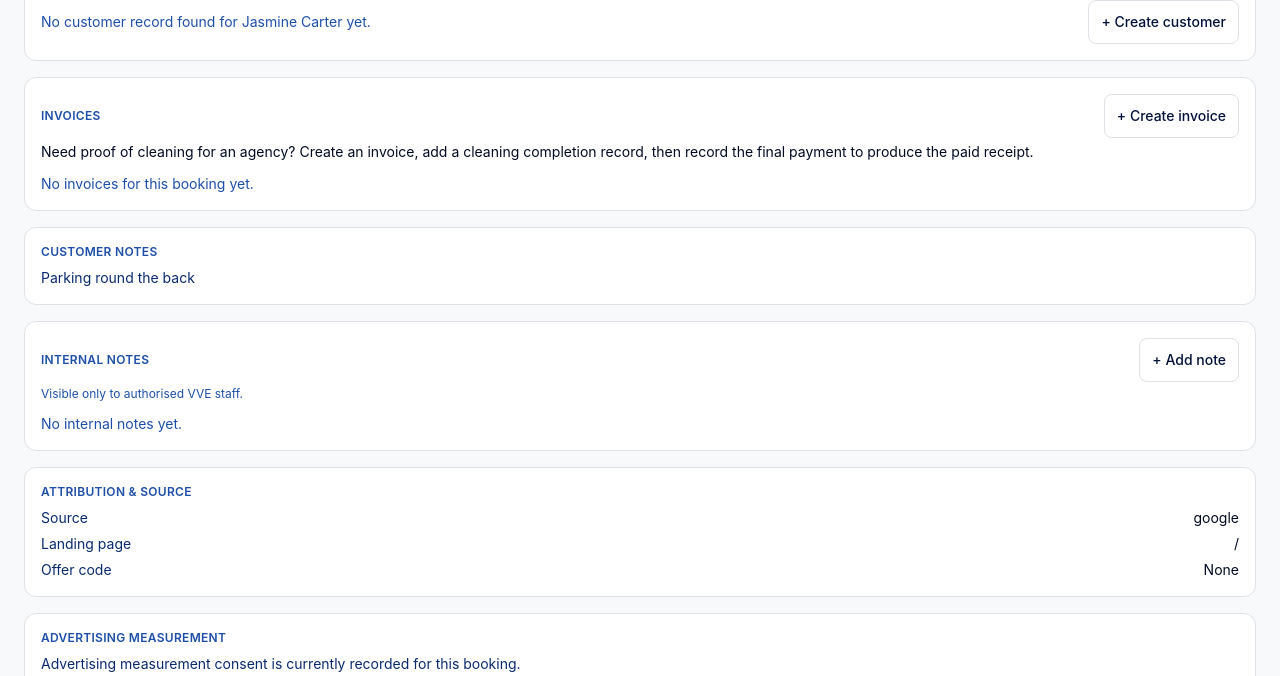
Test: BookingDetailPage › internal notes › adds a note through the modal and shows it in the list without a full reload
This screenshot has width=1280, height=676.
(page scrolled)
Expected: the text "No internal notes yet." is shown, [41,415,182,432]
Click the button "+ Add note" at x=1189, y=360, box [1139,338,1239,382]
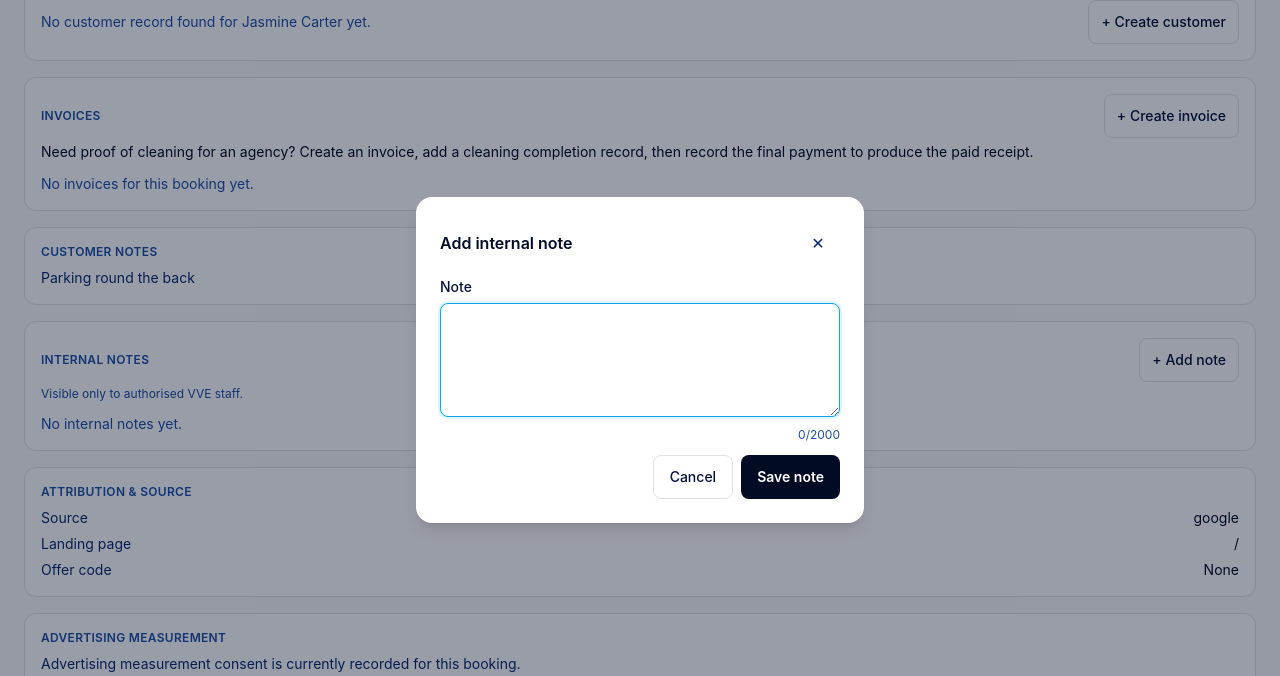
Type "Left a card, will call tomorrow." into the text box labelled "Note" at x=640, y=360, box [440,303,840,417]
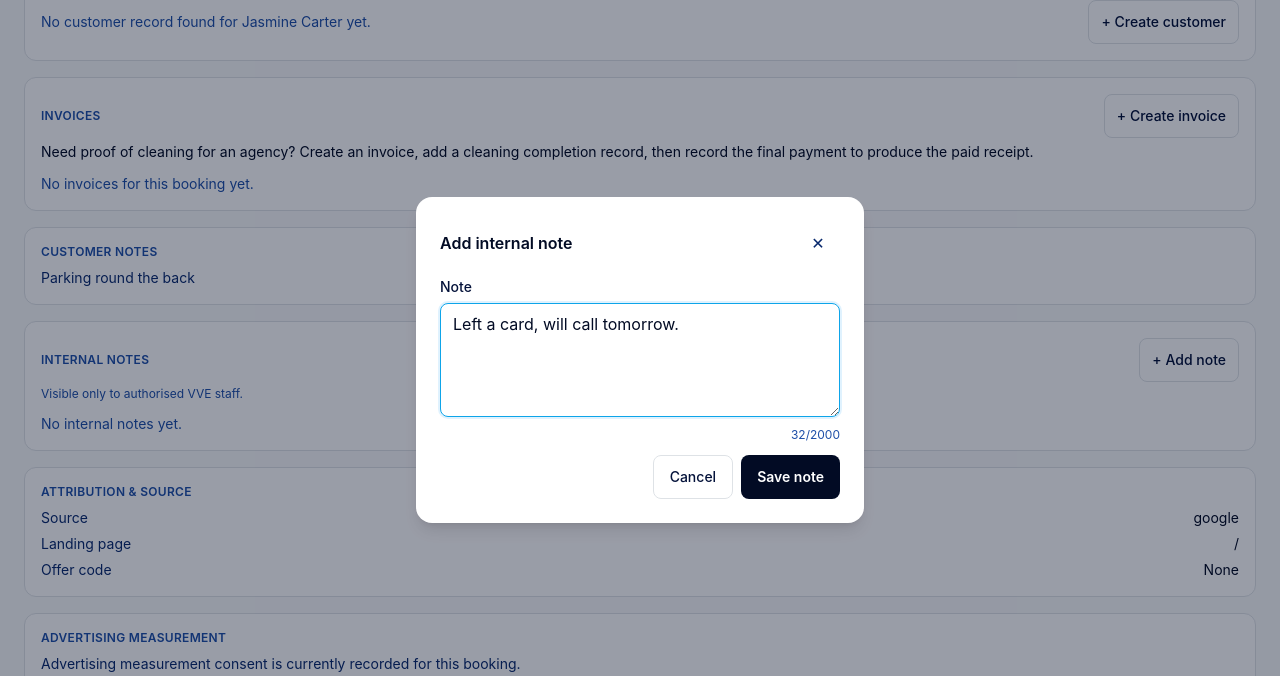
Click the button "Save note" at x=791, y=477, box [741,455,840,499]
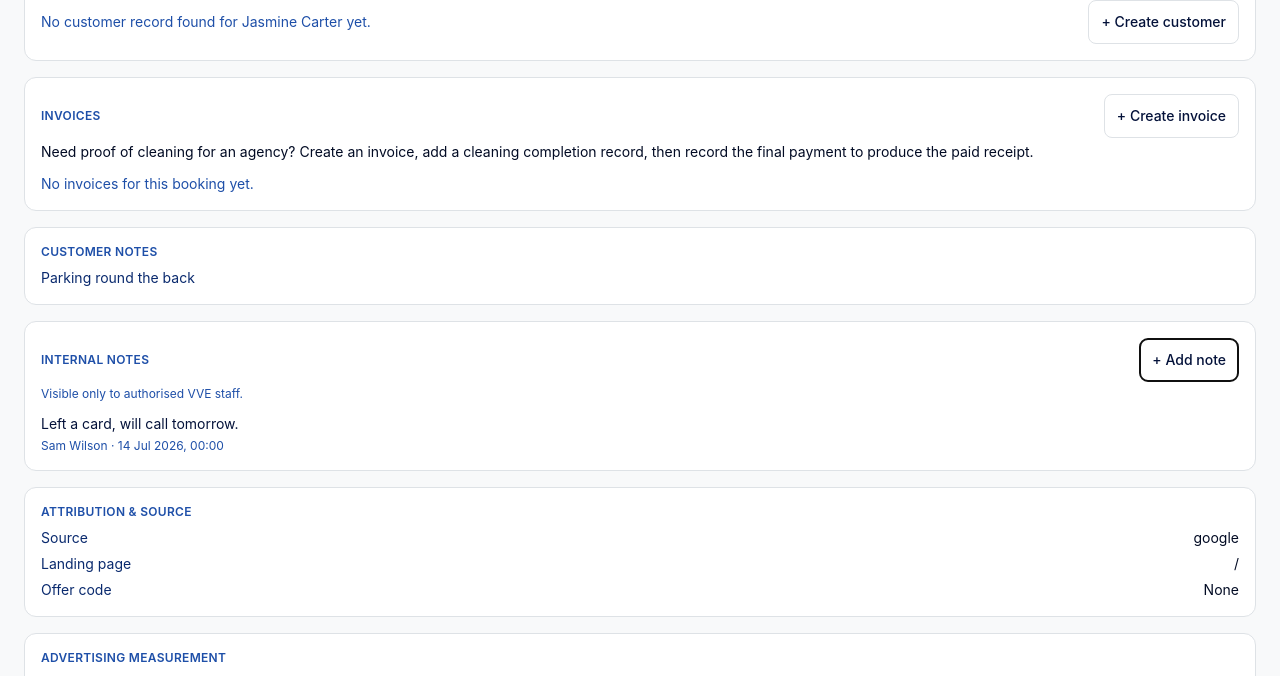
Expected: the text "Left a card, will call tomorrow." is shown, [41,415,239,432]
Expected: the text "Sam Wilson · 14 Jul 2026, 00:00" is shown, [41,438,224,453]
